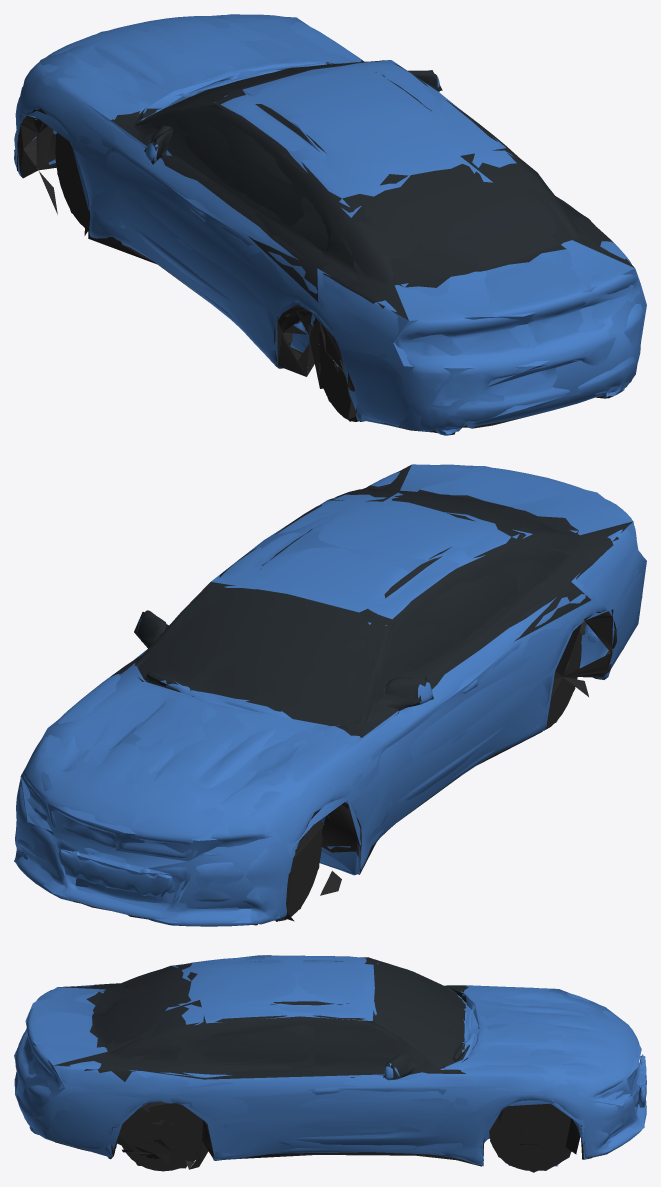
Rendered from dodge-charger.glb.
3 views of the same model, one above another, from view 1: azimuth 30°, elevation 25°; view 2: azimuth 150°, elevation 25°; view 3: azimuth 270°, elevation 25° (orthographic). The views are drawn at different scales.
Visible parts, largest first — view 1: body, far; view 2: body, far; view 3: body, far.
Part boxes in pixels (bbox=[...]): body: bbox=[14, 14, 643, 435]; far: bbox=[14, 14, 646, 430]; body: bbox=[15, 464, 643, 926]; far: bbox=[14, 464, 646, 922]; body: bbox=[15, 955, 646, 1171]; far: bbox=[14, 955, 646, 1172].
Bounding box in the file's own units: 2.03 × 1.48 × 5.33.
